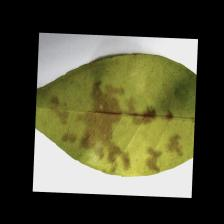black spot: (39, 85, 184, 164)
